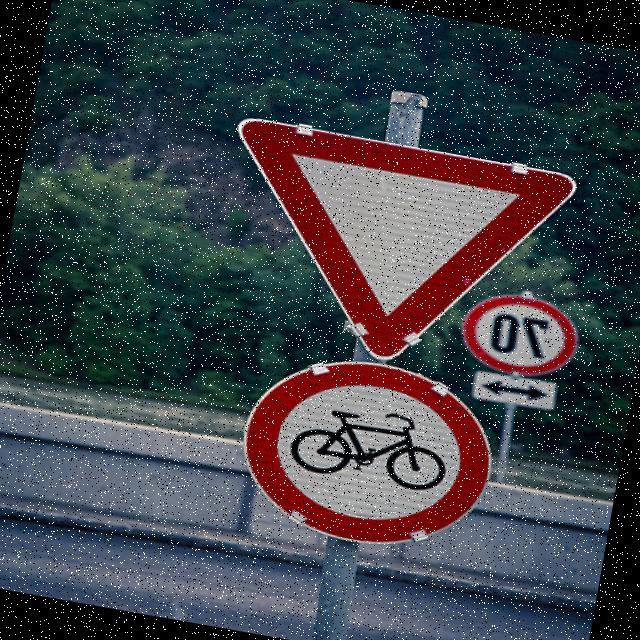give_way: (194, 108, 587, 385)
